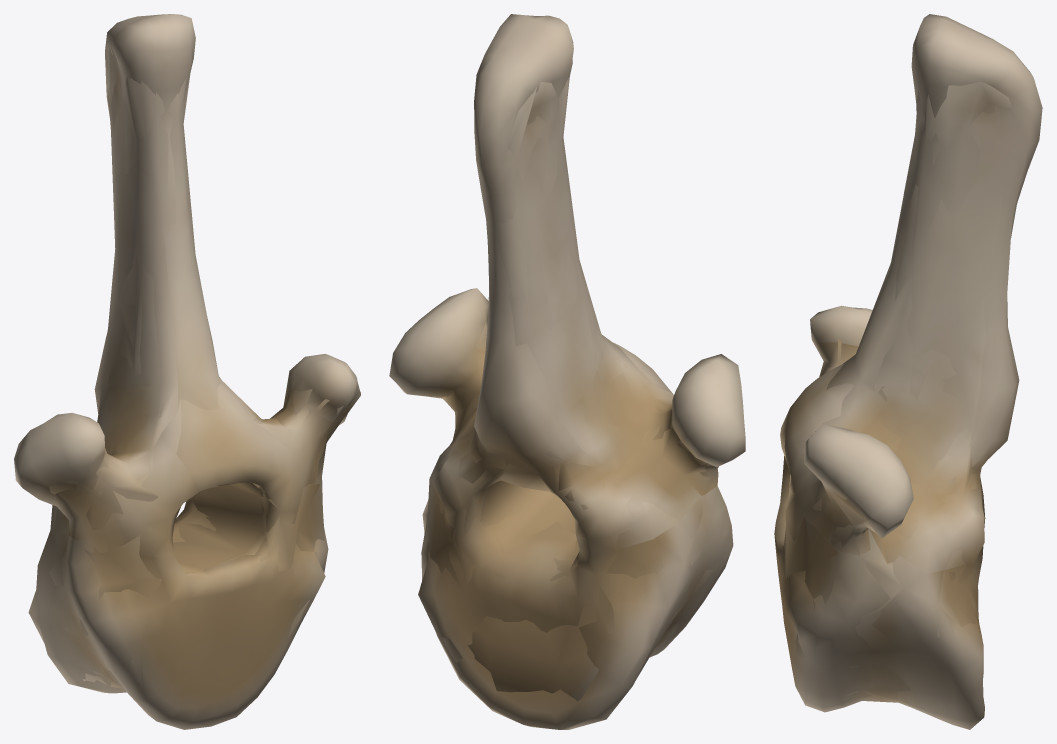
File: vertebrae thoracicae 10.fbx
3 renders of one model, left to right at view 1: azimuth 30°, elevation 25°; view 2: azimuth 150°, elevation 25°; view 3: azimuth 270°, elevation 25°, orthographic. The views are drawn at different scales.
Parts seen in each view (by area): view 1: vertebrae thoracicae 10, vertebrae thoracicae 10 low; view 2: vertebrae thoracicae 10, vertebrae thoracicae 10 low; view 3: vertebrae thoracicae 10, vertebrae thoracicae 10 low.
Boxes of the visible parts, x1,y1,x2,y2 form: vertebrae thoracicae 10: (14, 14, 360, 729); vertebrae thoracicae 10 low: (47, 23, 355, 689); vertebrae thoracicae 10: (389, 14, 745, 729); vertebrae thoracicae 10 low: (429, 78, 713, 701); vertebrae thoracicae 10: (774, 14, 1042, 729); vertebrae thoracicae 10 low: (782, 38, 1011, 702).
Bounding box in the file's own units: 7.29 × 13.87 × 4.82.
Materials: 1 (1 with a texture image).
